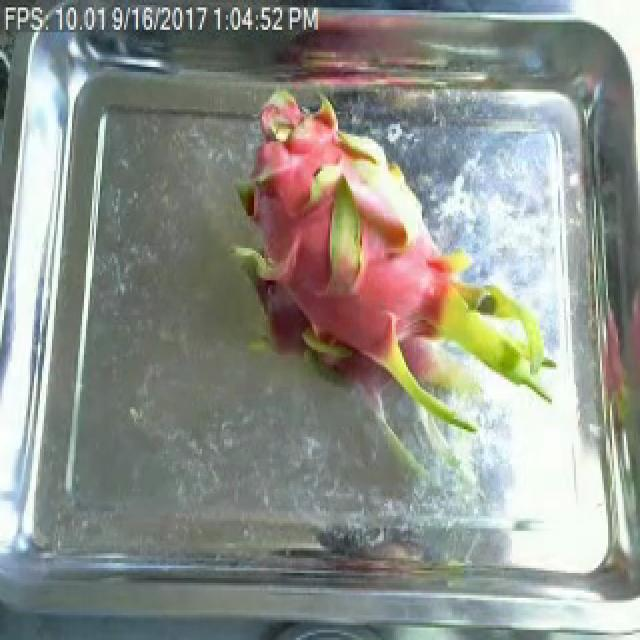fruit: (214, 70, 566, 472)
